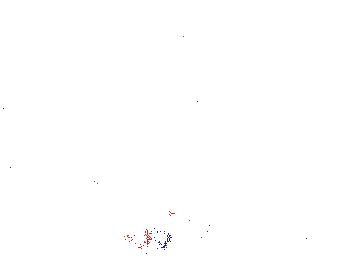flame jellyfish: (126, 201, 219, 254), (20, 74, 65, 141), (83, 171, 139, 219)
